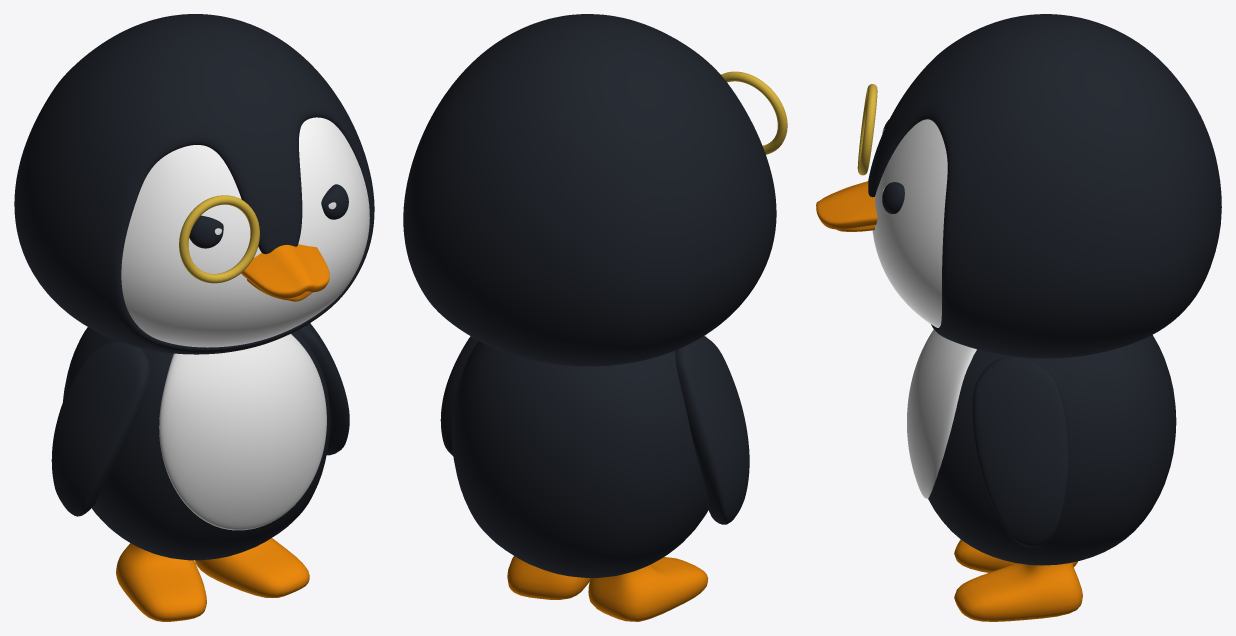
File: penguinman.glb
3 views of the same model, side by side, from view 1: azimuth 30°, elevation 25°; view 2: azimuth 150°, elevation 25°; view 3: azimuth 270°, elevation 25° (orthographic). The views are drawn at different scales.
Parts seen in each view (by area): view 1: Cube.006, Cube.007, Circle.001, Cube.004, Plane.004, Cube.001, Plane.003, Torus.001, Plane.001, Sphere.003, Sphere.002; view 2: Cube.006, Cube.004, Plane.004, Cube.001, Plane.001, Torus.001; view 3: Cube.006, Cube.004, Plane.001, Cube.007, Cube.001, Circle.001, Plane.003, Torus.001, Sphere.002.
Part boxes in pixels (<box>): Cube.006: <box>14,14,374,354</box>; Cube.007: <box>121,117,369,347</box>; Circle.001: <box>159,334,326,530</box>; Cube.004: <box>63,327,330,560</box>; Plane.004: <box>51,341,149,516</box>; Cube.001: <box>116,538,309,621</box>; Plane.003: <box>241,244,329,301</box>; Torus.001: <box>179,195,259,283</box>; Plane.001: <box>298,323,349,455</box>; Sphere.003: <box>189,215,223,248</box>; Sphere.002: <box>321,184,348,219</box>; Cube.006: <box>403,14,776,366</box>; Cube.004: <box>451,341,708,577</box>; Plane.004: <box>675,336,749,524</box>; Cube.001: <box>507,556,708,621</box>; Plane.001: <box>440,336,478,455</box>; Torus.001: <box>721,71,787,154</box>; Cube.006: <box>868,14,1221,358</box>; Cube.004: <box>928,335,1176,565</box>; Plane.001: <box>972,356,1069,547</box>; Cube.007: <box>872,119,947,327</box>; Cube.001: <box>954,539,1082,621</box>; Circle.001: <box>907,329,976,498</box>; Plane.003: <box>816,181,877,231</box>; Torus.001: <box>857,84,877,175</box>; Sphere.002: <box>882,182,904,213</box>.
Size of the model in its own units: 1.64 by 2.85 by 1.87.
